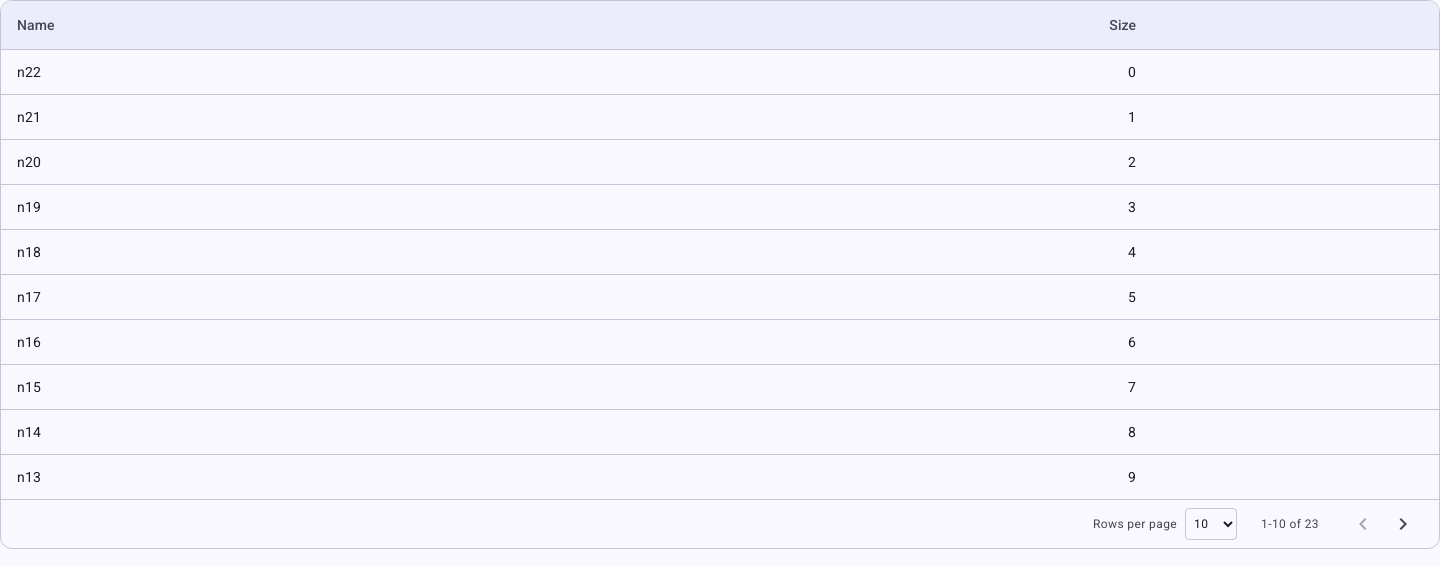
Test: M3DataTable › moves to the next and the previous page
The image size is (1440, 566).
What coordinates should you click on to do the following:
click the button named "Next page"
I would click on:
 (1403, 524)
Its box is [1383,504,1423,544].
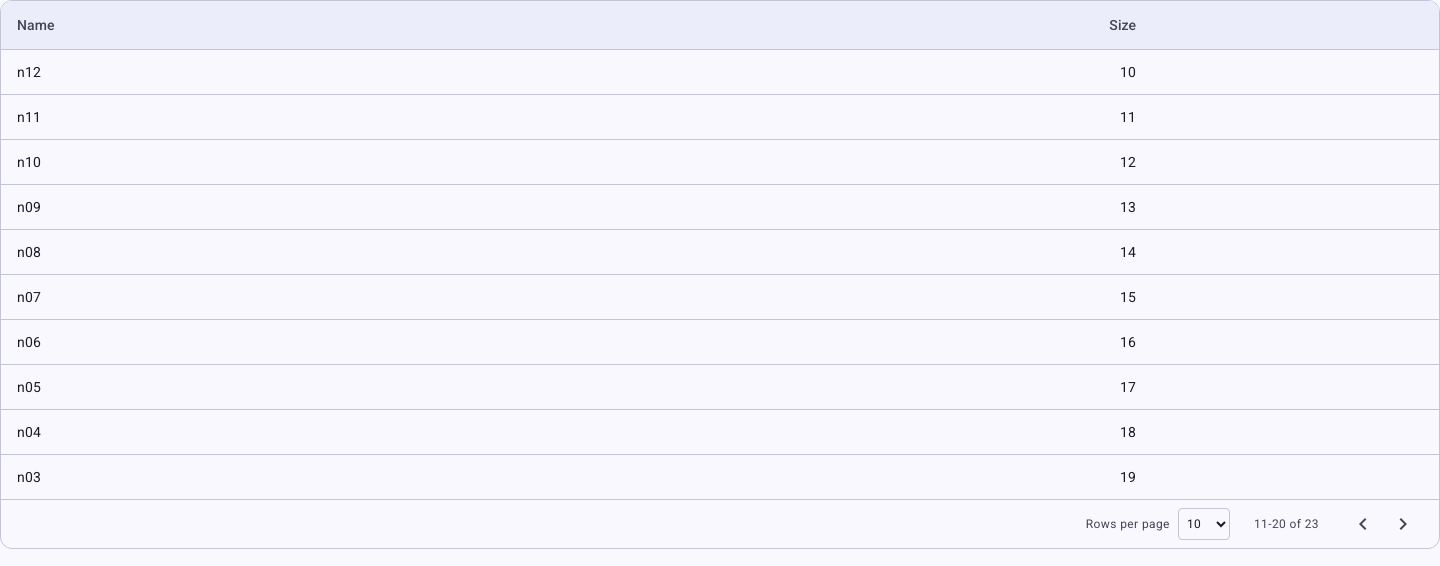
Check: the text "11-20 of 23" is shown, box [1254,516,1319,532]
What coordinates should you click on to do the following:
click the button named "Previous page"
I would click on:
 (1363, 524)
Its box is [1343,504,1383,544].
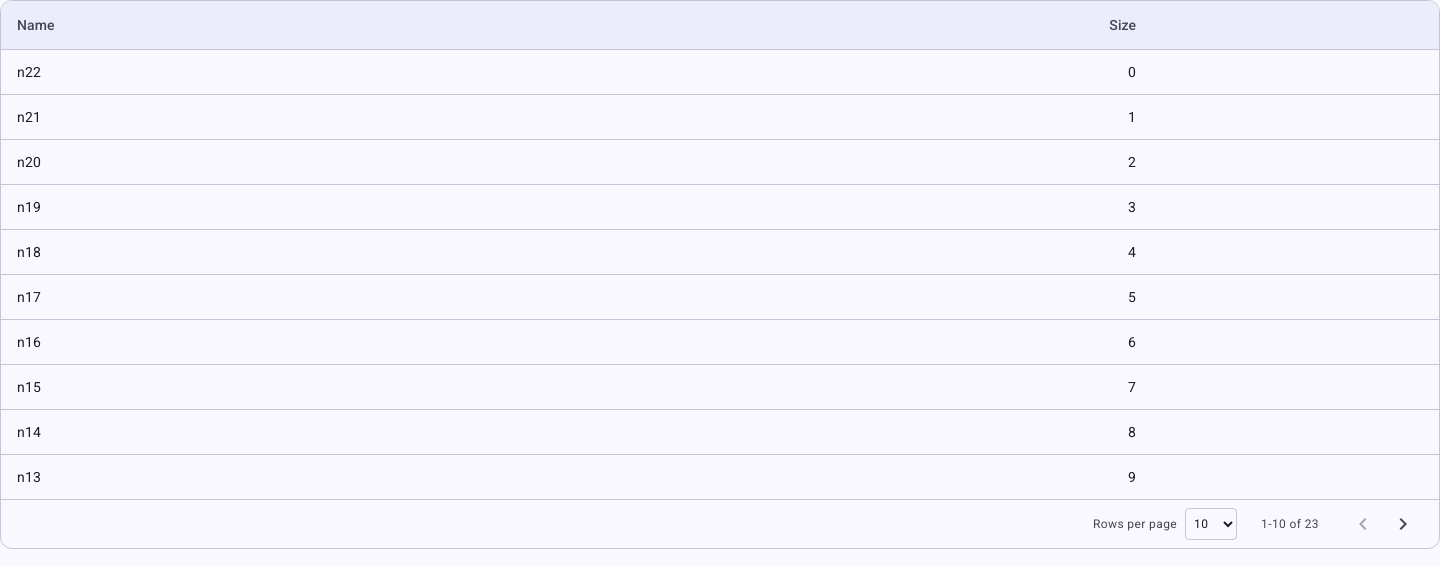
Check: the text "1-10 of 23" is shown, box [1261,516,1319,532]
